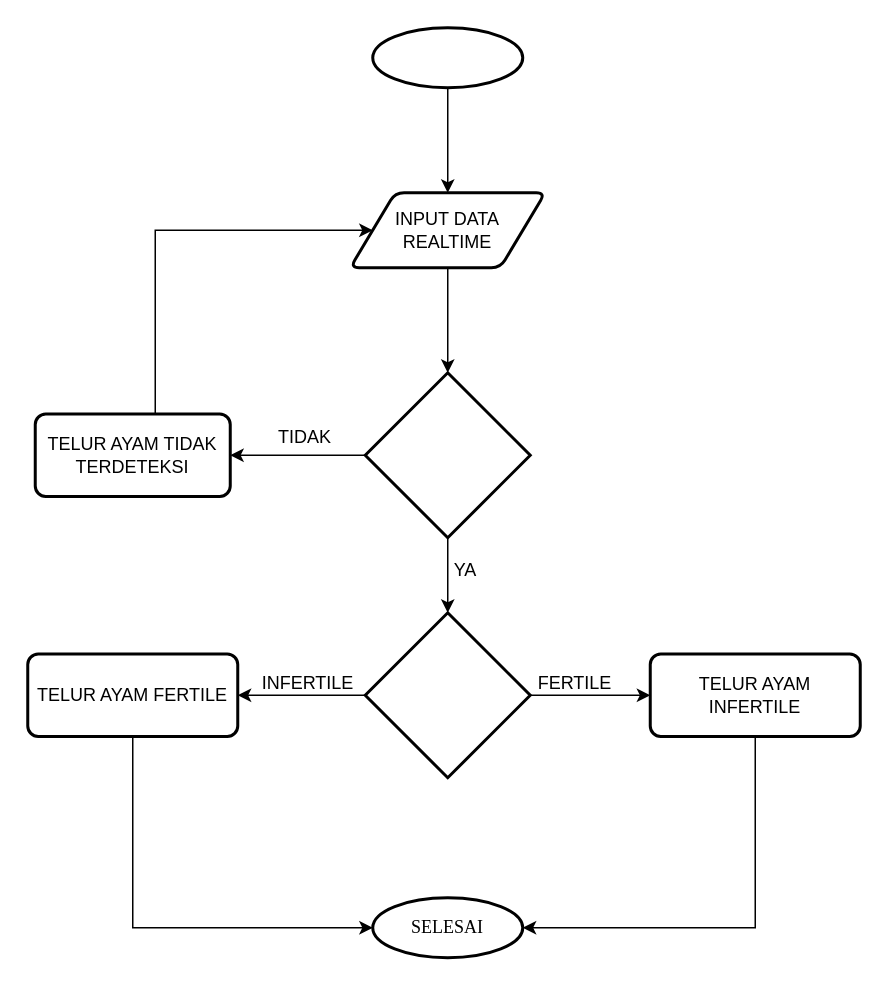
The diagram is 887 pixels wide and 984 high, and some of its shapes have lost their labels. The shapes that lost their labels are listed below. From the top down, each one's centre as x and y in pixels, then its label:
(447,57): MULAI
(447,454): OBJEK TERDETEKSI ?
(447,694): JENIS TELUR AYAM
